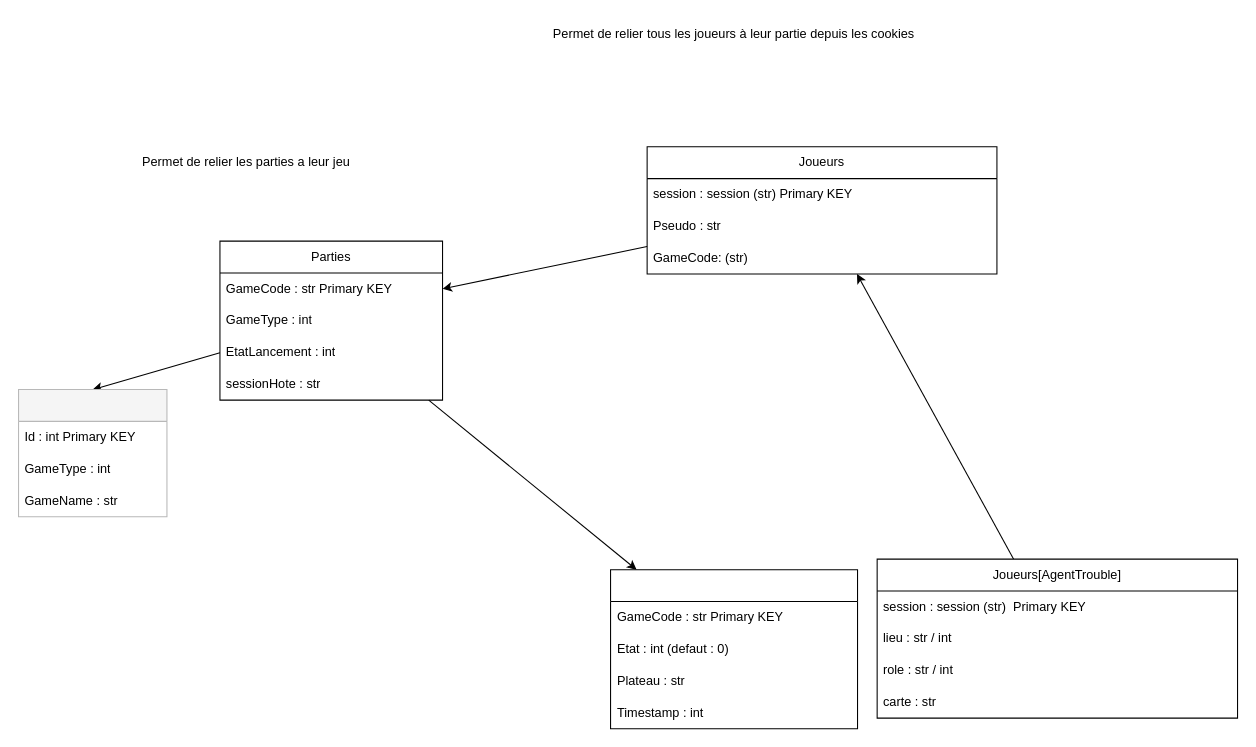
Some shapes in this 1256 by 747 pixel diagram are drawn without their labels. The shapes that lost their labels are listed below. From the top down, each one's box as (x1, y1, x2, y2) in pixels, then its label:
(17, 388, 167, 517): Jeux
(610, 569, 858, 729): PartiesAgentTrouble
